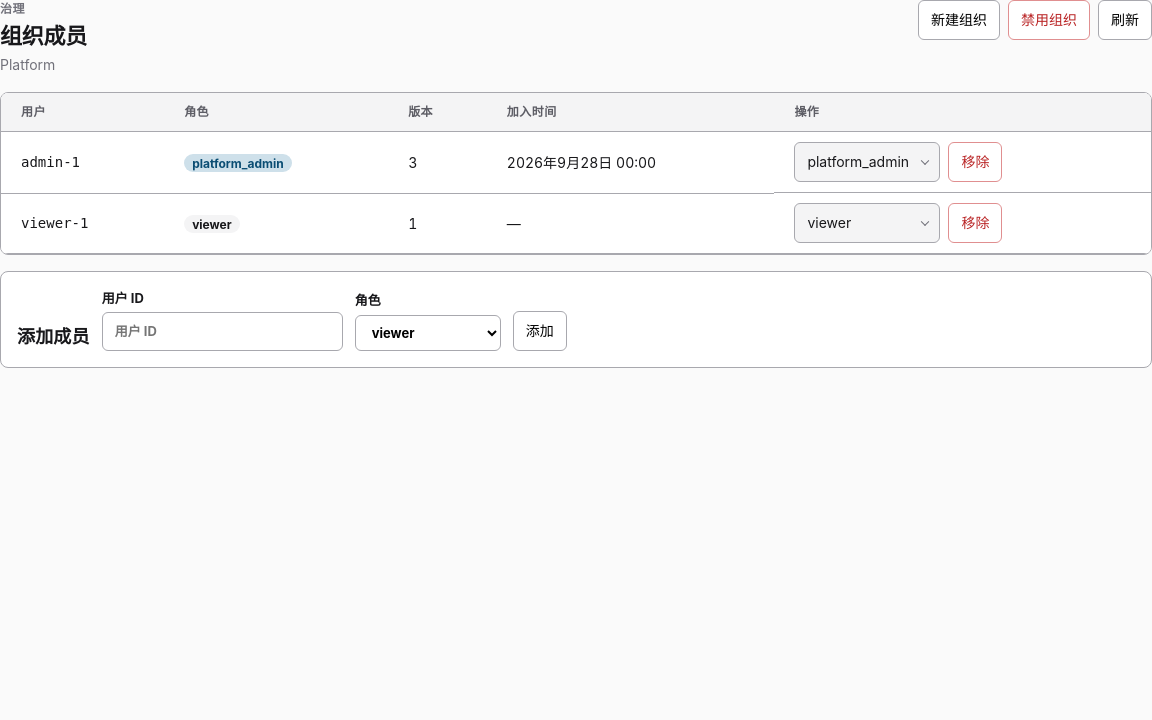
Test: OrganizationPage organization-level actions (TASK-301) › reads the current organization before arming, and cancelling executes nothing
The image size is (1152, 720).
Click the button with test id "organization-disable-open" at [1049, 20], box [1008, 0, 1090, 40]
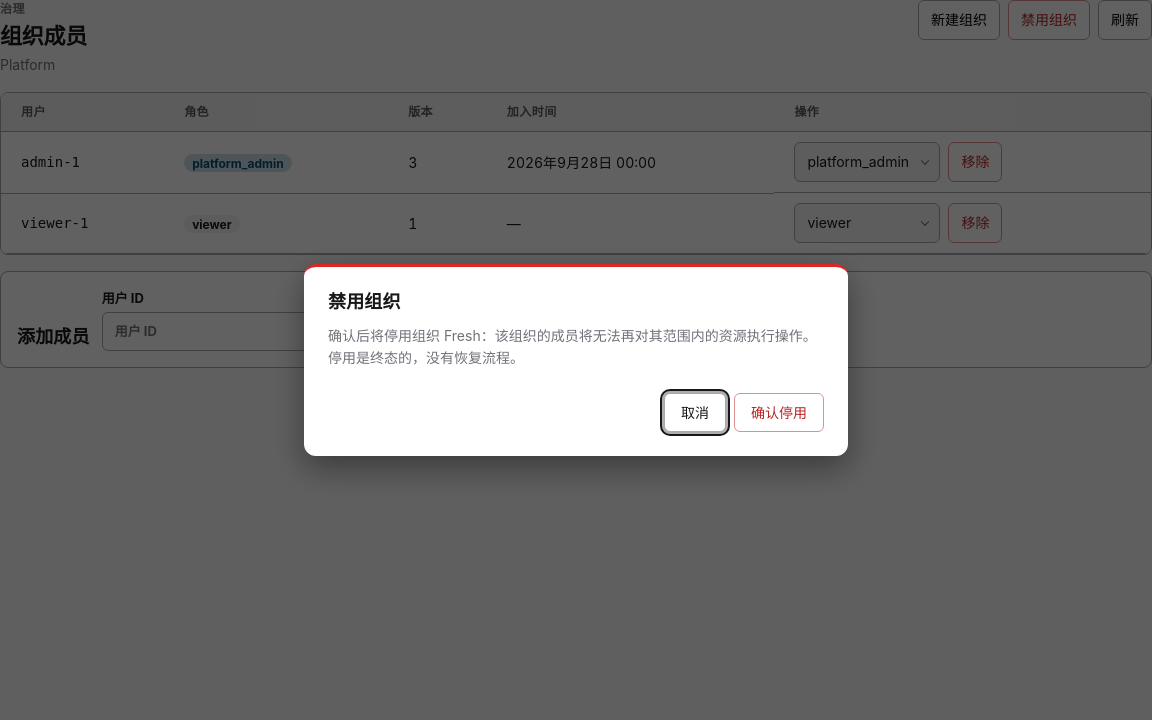
Result: the heading "禁用组织" is shown at [328, 291, 401, 312]
Result: the text with class "app-dialog__description" shows "Fresh" at [328, 327, 817, 366]
Click the button "取消" at [695, 412], box [664, 393, 726, 432]
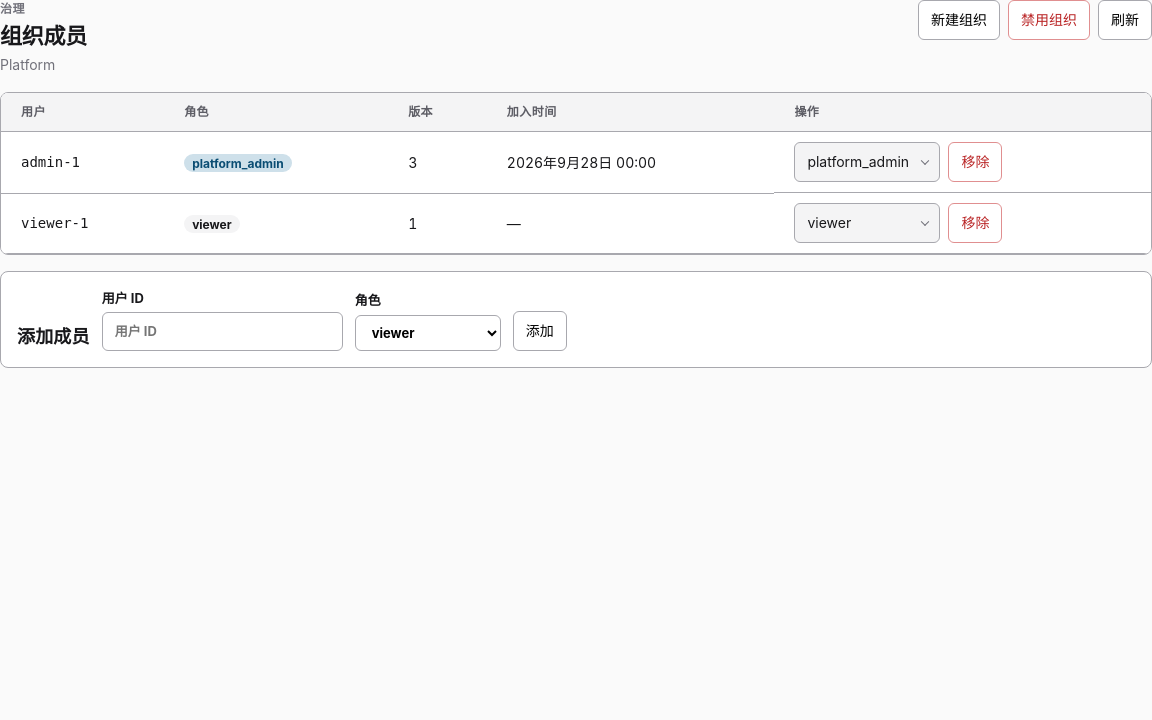
Result: the dialog is gone
